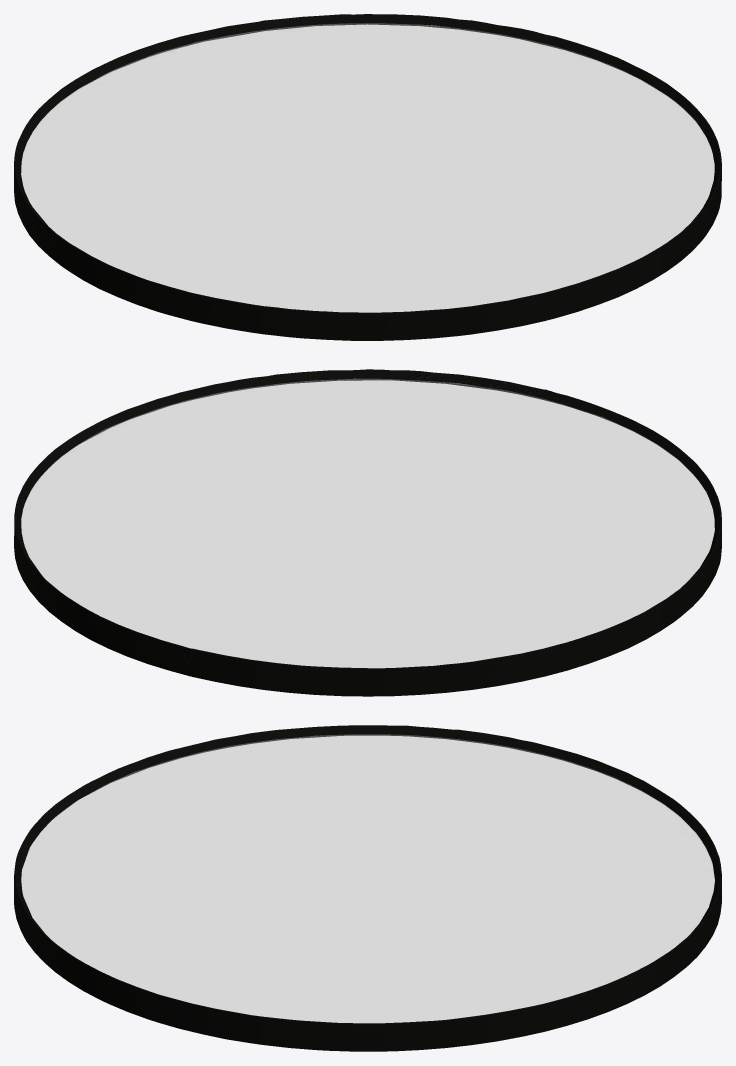
The model's file is 08 - LINDBYN - 鏡子，黑色，50 公分 IKEA 線上購物.glb.
3 renders of one model, top to bottom at view 1: azimuth 30°, elevation 25°; view 2: azimuth 150°, elevation 25°; view 3: azimuth 270°, elevation 25°, orthographic.
Parts seen in each view (by area): view 1: ASY_ART_70590448_S01_NV01; view 2: ASY_ART_70590448_S01_NV01; view 3: ASY_ART_70590448_S01_NV01.
Part boxes in pixels (left/top/right/bottom): ASY_ART_70590448_S01_NV01: left=14, top=14, right=721, bottom=340; ASY_ART_70590448_S01_NV01: left=14, top=369, right=721, bottom=696; ASY_ART_70590448_S01_NV01: left=14, top=725, right=721, bottom=1051.
Bounding box in the file's own units: 0.4998 × 0.022 × 0.5001.
2 materials, 2 textured.
